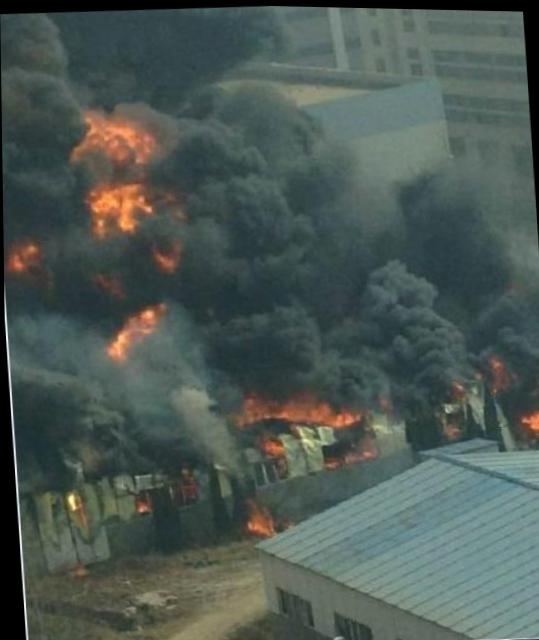fire: (89, 178, 151, 233), (97, 116, 164, 159), (280, 392, 336, 421), (104, 320, 135, 358), (8, 241, 41, 272), (243, 398, 278, 421), (132, 302, 156, 334), (248, 507, 273, 536), (522, 405, 538, 436), (335, 408, 357, 425), (263, 436, 286, 451)
